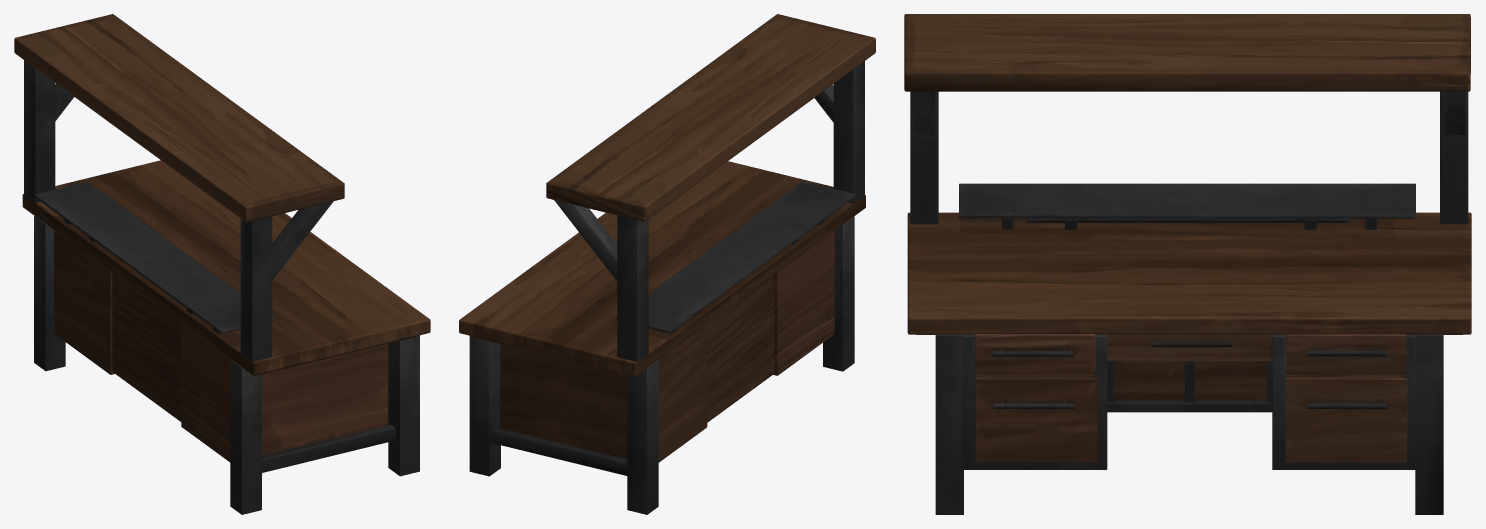
File: desk.glb
3 renders of one model, left to right at view 1: azimuth 30°, elevation 25°; view 2: azimuth 150°, elevation 25°; view 3: azimuth 270°, elevation 25°, orthographic. The views are drawn at different scales.
Visible parts, largest first — view 1: BoardAbove, TableTop, DrawerSupportL, SmallBoard, TableBack, DrawerSupportR, UpperSupportL, Support2, Support1, UpperSupportR, Support3, SideBorderL (+1 smaller); view 2: BoardAbove, TableTop, DrawerSupportR, SmallBoard, TableBack, DrawerSupportL, Support3, UpperSupportR, Support4, UpperSupportL, Support2, SideBorderR (+1 smaller); view 3: TableTop, BoardAbove, SmallBoard, Drawer2CoverR, Drawer2CoverL, TableBack, Support1, Support4, Drawer1CoverL, Drawer1CoverR, DrawerRBorder, DrawerLBorder (+7 smaller).
Boxes of the visible parts, left/top/right/bottom form: BoardAbove: left=14, top=14, right=344, bottom=222; TableTop: left=22, top=160, right=430, bottom=375; DrawerSupportL: left=181, top=323, right=388, bottom=462; SmallBoard: left=34, top=182, right=274, bottom=333; TableBack: left=112, top=273, right=181, bottom=421; DrawerSupportR: left=54, top=230, right=114, bottom=374; UpperSupportL: left=240, top=216, right=272, bottom=361; Support2: left=230, top=359, right=261, bottom=514; Support1: left=388, top=336, right=419, bottom=476; UpperSupportR: left=24, top=60, right=55, bottom=203; Support3: left=34, top=216, right=65, bottom=371; SideBorderL: left=262, top=424, right=395, bottom=472; BoardAbove: left=546, top=14, right=875, bottom=221; TableTop: left=459, top=161, right=865, bottom=375; DrawerSupportR: left=500, top=324, right=707, bottom=462; SmallBoard: left=616, top=181, right=855, bottom=332; TableBack: left=707, top=275, right=774, bottom=422; DrawerSupportL: left=773, top=230, right=834, bottom=375; Support3: left=627, top=360, right=658, bottom=514; UpperSupportR: left=617, top=215, right=648, bottom=362; Support4: left=469, top=336, right=500, bottom=476; UpperSupportL: left=833, top=61, right=864, bottom=203; Support2: left=823, top=216, right=854, bottom=371; SideBorderR: left=491, top=427, right=627, bottom=475; TableTop: left=907, top=212, right=1471, bottom=334; BoardAbove: left=904, top=14, right=1470, bottom=91; SmallBoard: left=959, top=183, right=1415, bottom=218; Drawer2CoverR: left=1285, top=377, right=1407, bottom=462; Drawer2CoverL: left=975, top=377, right=1097, bottom=462; TableBack: left=1113, top=361, right=1266, bottom=400; Support1: left=935, top=334, right=963, bottom=514; Support4: left=1415, top=334, right=1443, bottom=514; Drawer1CoverL: left=975, top=334, right=1095, bottom=372; Drawer1CoverR: left=1286, top=334, right=1406, bottom=372; DrawerRBorder: left=1272, top=334, right=1416, bottom=469; DrawerLBorder: left=963, top=334, right=1107, bottom=469.
Size of the model in its own units: 5.57 by 8.55 by 11.26.
Materials: 8 (8 with a texture image).
